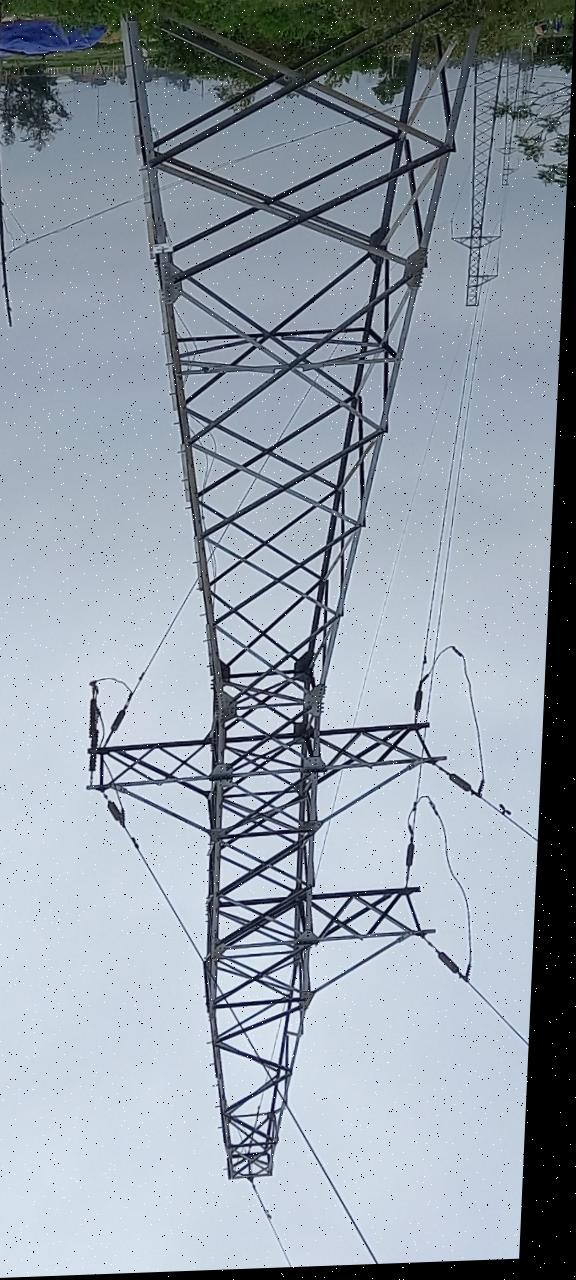tower: (81, 28, 477, 1185)
